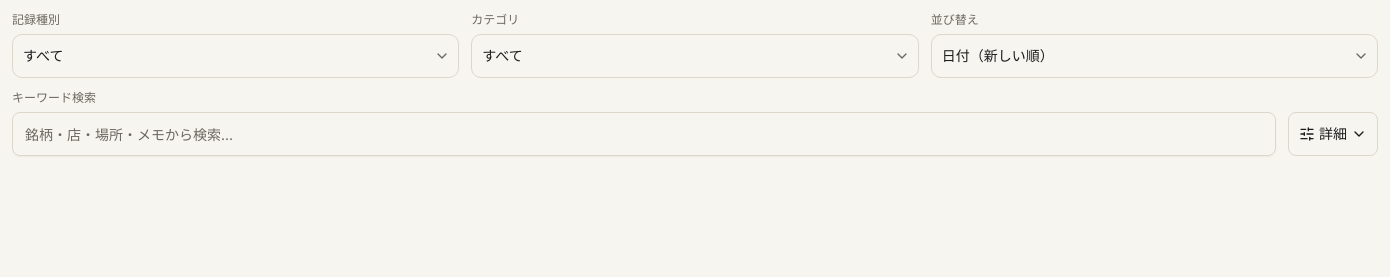
Test: 詳細フィルタの折りたたみ › ボタンを押すと開き、もう一度押すと畳む
Click the button with test id "filter-advanced-toggle" at coordinates (1333, 134), box [1288,112,1378,156]
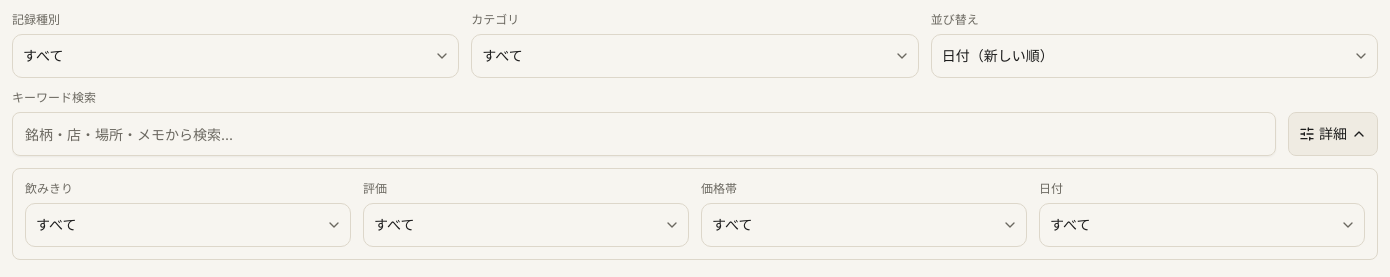
Result: the button with test id "filter-advanced-toggle" is expanded
Result: the dropdown with test id "filter-drinking-status" is shown at [25,203,351,247]
Result: the dropdown with test id "filter-rating" is shown at [363,203,689,247]
Click the button with test id "filter-advanced-toggle" at coordinates (1333, 134), box [1288,112,1378,156]
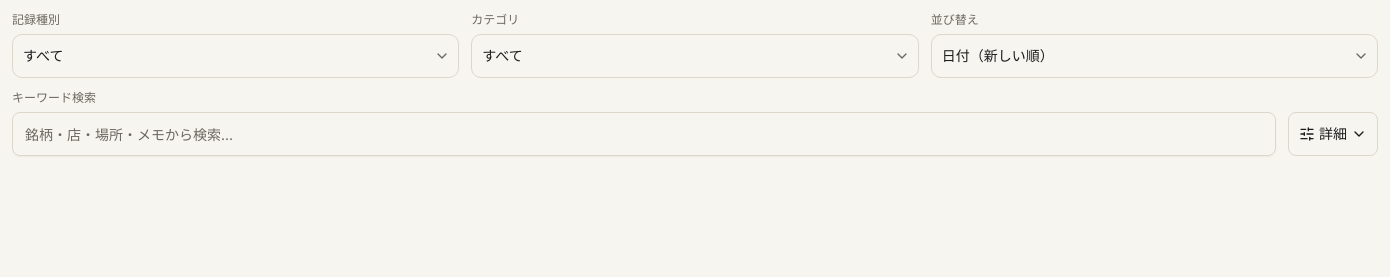
Result: the button with test id "filter-advanced-toggle" is collapsed at [1288,112,1378,156]
Result: the element with test id "filter-advanced-panel" is gone
